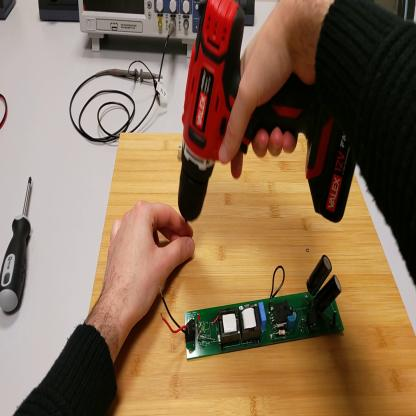electric screwdriver: (180, 1, 356, 229)
hand: (217, 5, 314, 179), (104, 201, 197, 324)
high voltage board: (161, 255, 350, 360)
oscilloscope: (80, 2, 202, 60)
oscilloscope probe tip: (110, 69, 164, 87)
screwdriver-: (1, 174, 33, 315)
socket: (39, 1, 81, 26), (2, 1, 18, 22)
welder station: (375, 2, 409, 20)
working area: (90, 131, 416, 415)
